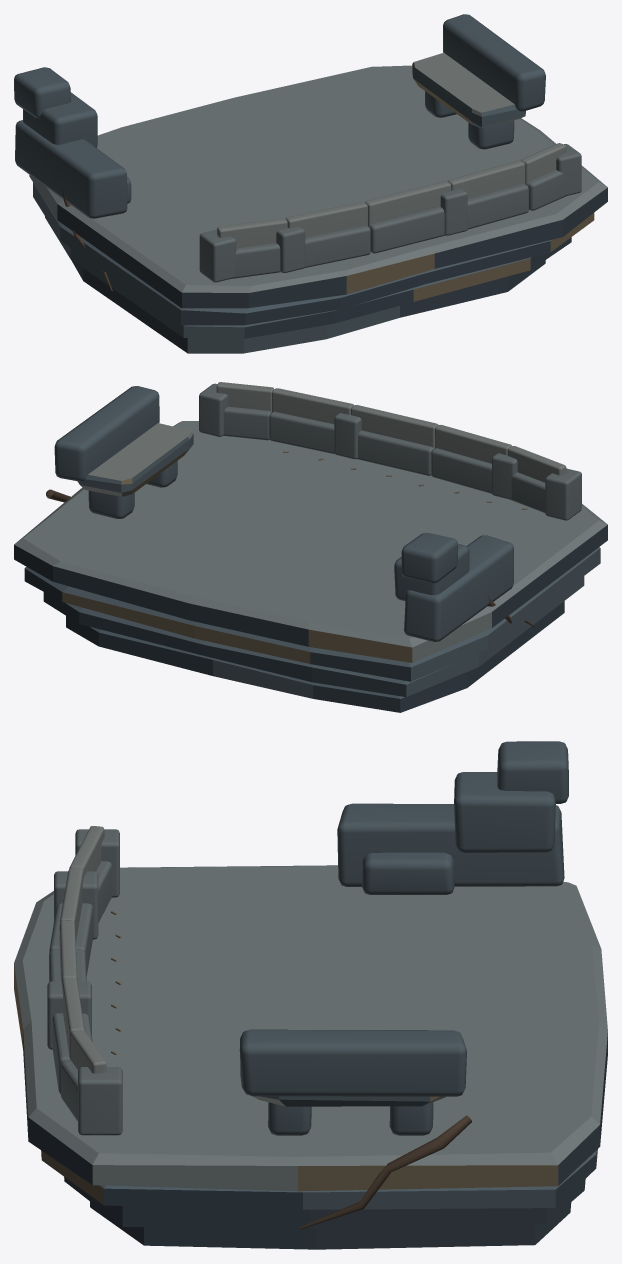
The model's file is vein_overlook_balcony.glb.
3 views of the same model, one above another, from view 1: azimuth 30°, elevation 25°; view 2: azimuth 150°, elevation 25°; view 3: azimuth 270°, elevation 25° (orthographic). The views are drawn at different scales.
Visible parts, largest first — view 1: Quarry rock course 4, Quarry rock course 3, Quarry rock course 2, Quarry rock course 1, Remaining quarry spine 1, Bench rough back, Carved lookout seat, Remaining quarry spine 2, Cut guard base 3, Remaining quarry spine 3, Cut guard base 2, Guard cap 3 (+12 smaller); view 2: Quarry rock course 4, Quarry rock course 3, Quarry rock course 2, Quarry rock course 1, Remaining quarry spine 1, Bench rough back, Carved lookout seat, Remaining quarry spine 3, Cut guard base 3, Cut guard base 4, Guard cap 3, Cut guard base 2 (+12 smaller); view 3: Quarry rock course 4, Bench rough back, Remaining quarry spine 1, Quarry rock course 3, Quarry rock course 1, Quarry rock course 2, Remaining quarry spine 2, Remaining quarry spine 4, Remaining quarry spine 3, Cut parapet post 2.14, Receding ravine root, Carved lookout seat (+15 smaller).
Part boxes in pixels (left/top/right/bottom): Quarry rock course 4: left=29, top=65, right=607, bottom=308; Quarry rock course 3: left=33, top=182, right=594, bottom=325; Quarry rock course 2: left=45, top=216, right=571, bottom=338; Quarry rock course 1: left=71, top=260, right=545, bottom=353; Remaining quarry spine 1: left=15, top=120, right=127, bottom=218; Bench rough back: left=443, top=14, right=545, bottom=111; Carved lookout seat: left=412, top=52, right=525, bottom=128; Remaining quarry spine 2: left=23, top=92, right=97, bottom=147; Cut guard base 3: left=369, top=207, right=444, bottom=253; Remaining quarry spine 3: left=14, top=67, right=70, bottom=118; Cut guard base 2: left=304, top=225, right=370, bottom=267; Guard cap 3: left=365, top=181, right=451, bottom=226; Quarry rock course 4: left=14, top=421, right=607, bottom=662; Quarry rock course 3: left=24, top=547, right=600, bottom=681; Quarry rock course 2: left=43, top=576, right=584, bottom=696; Quarry rock course 1: left=66, top=601, right=564, bottom=712; Remaining quarry spine 1: left=404, top=535, right=513, bottom=641; Bench rough back: left=54, top=386, right=159, bottom=481; Carved lookout seat: left=77, top=423, right=193, bottom=496; Remaining quarry spine 3: left=401, top=532, right=457, bottom=583; Cut guard base 3: left=357, top=430, right=433, bottom=475; Cut guard base 4: left=269, top=411, right=334, bottom=454; Guard cap 3: left=351, top=405, right=438, bottom=448; Cut guard base 2: left=431, top=448, right=491, bottom=493; Quarry rock course 4: left=14, top=865, right=607, bottom=1191; Bench rough back: left=239, top=1029, right=466, bottom=1096; Remaining quarry spine 1: left=337, top=803, right=564, bottom=886; Quarry rock course 3: left=41, top=1149, right=597, bottom=1209; Quarry rock course 1: left=90, top=1201, right=571, bottom=1249; Quarry rock course 2: left=64, top=1177, right=585, bottom=1228; Remaining quarry spine 2: left=454, top=772, right=555, bottom=852; Remaining quarry spine 4: left=362, top=852, right=454, bottom=894; Remaining quarry spine 3: left=497, top=741, right=568, bottom=803; Cut parapet post 2.14: left=78, top=1067, right=122, bottom=1135; Receding ravine root: left=300, top=1115, right=471, bottom=1229; Carved lookout seat: left=252, top=1096, right=445, bottom=1106.
Bounding box in the file's own units: 5.5 × 2.13 × 4.54.
